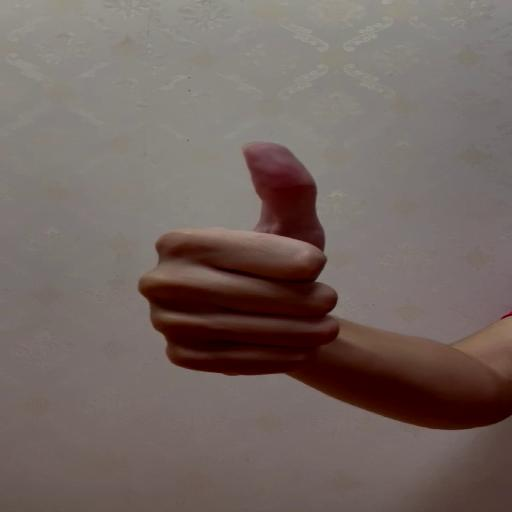thumbs_up: (135, 137, 338, 375)
